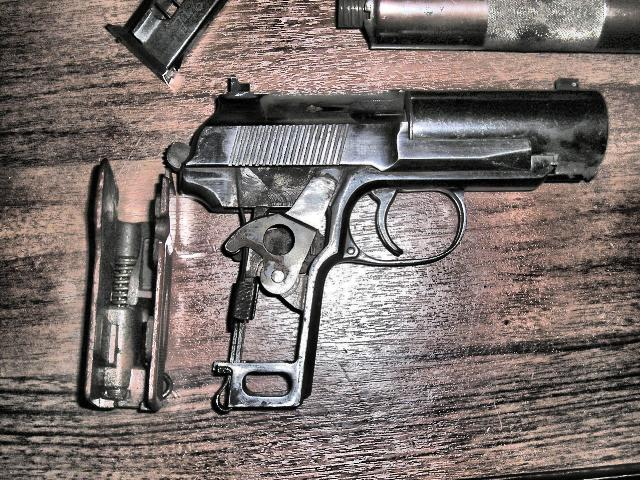pistol: (176, 77, 610, 408)
